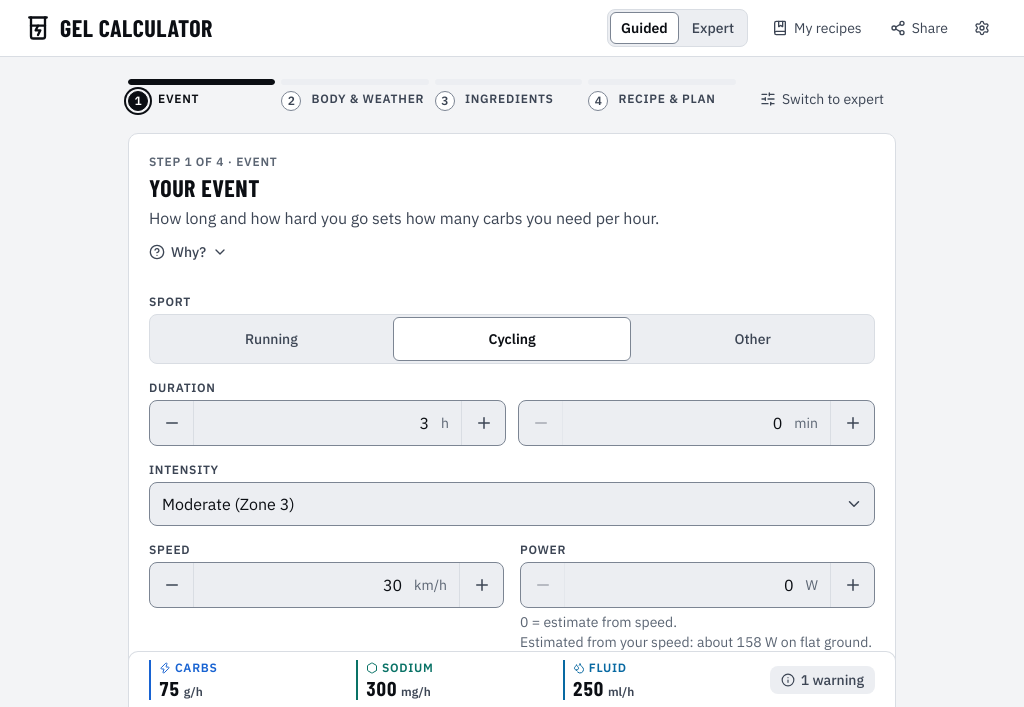
Scenario: App › starts a first visit in the guided flow, and its board is the same plan
Click the radio button labelled "Expert" at (713, 28), box [681,12,745,44]
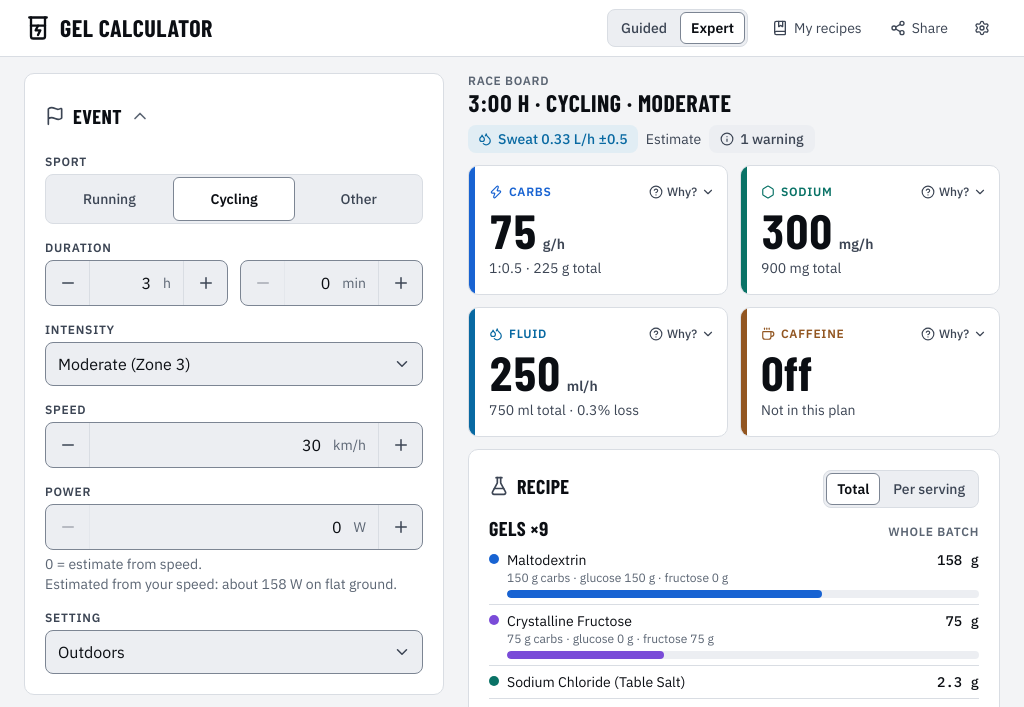
Expected: the text with test id "kpi-carbs-value" reads "75", [489,201,537,259]
